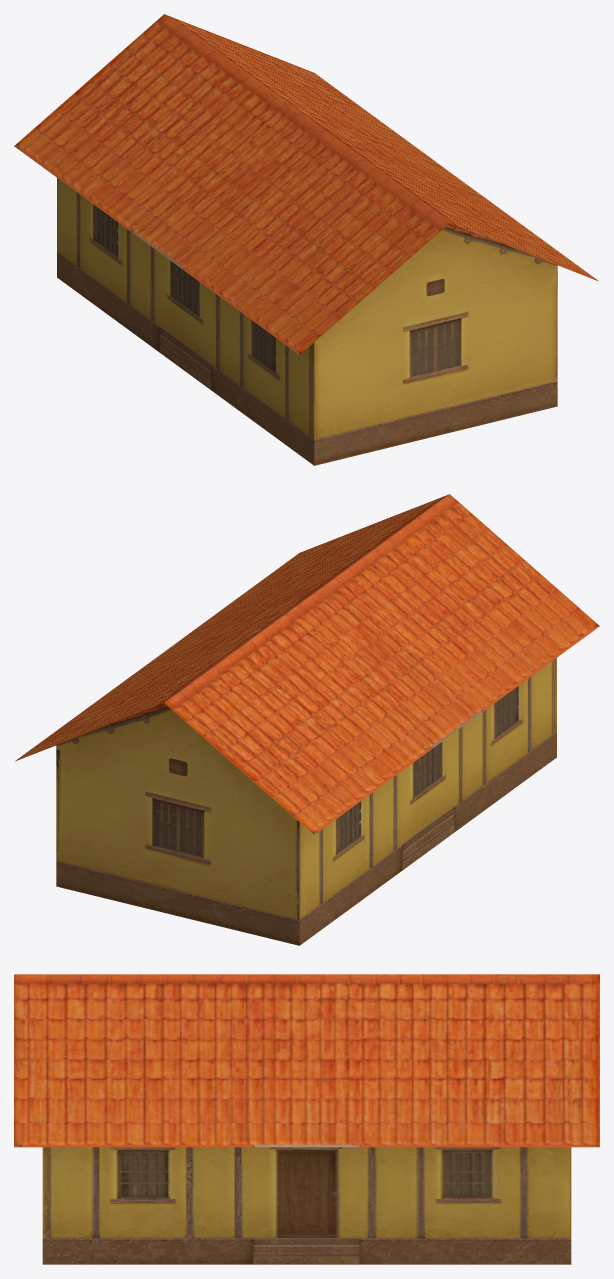
File: maison-a.glb
The picture shows the model from 3 angles, top to bottom: view 1: azimuth 30°, elevation 25°; view 2: azimuth 150°, elevation 25°; view 3: azimuth 270°, elevation 25°; orthographic projection. The views are drawn at different scales.
Visible parts, largest first — view 1: maison; view 2: maison; view 3: maison.
Part boxes in pixels (x1,y1,x2,y2): maison: (14, 14, 598, 465); maison: (15, 494, 599, 945); maison: (14, 974, 599, 1264).
Size of the model in its own units: 0.593 by 0.4214 by 0.976.
Materials: 1 (1 with a texture image).
